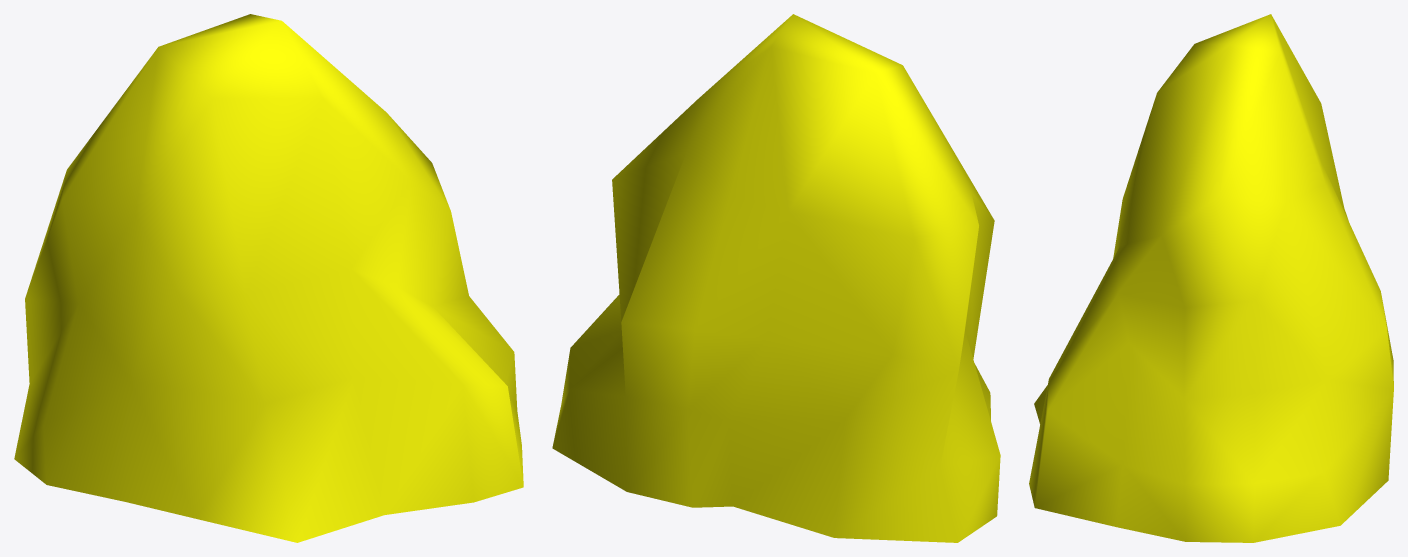
Rendered from general_obj_bigstone07.glb.
3 views of the same model, side by side, from view 1: azimuth 30°, elevation 25°; view 2: azimuth 150°, elevation 25°; view 3: azimuth 270°, elevation 25° (orthographic). The views are drawn at different scales.
Visible parts, largest first — view 1: Sphere01fs; view 2: Sphere01fs; view 3: Sphere01fs.
Boxes of the visible parts, left/top/right/bottom form: Sphere01fs: left=14, top=14, right=523, bottom=542; Sphere01fs: left=552, top=14, right=1000, bottom=542; Sphere01fs: left=1029, top=14, right=1393, bottom=542.
Bounding box in the file's own units: 12.78 × 11.95 × 9.86.
1 material, 1 textured.
